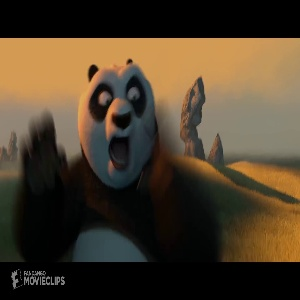po: (21, 54, 225, 261)
